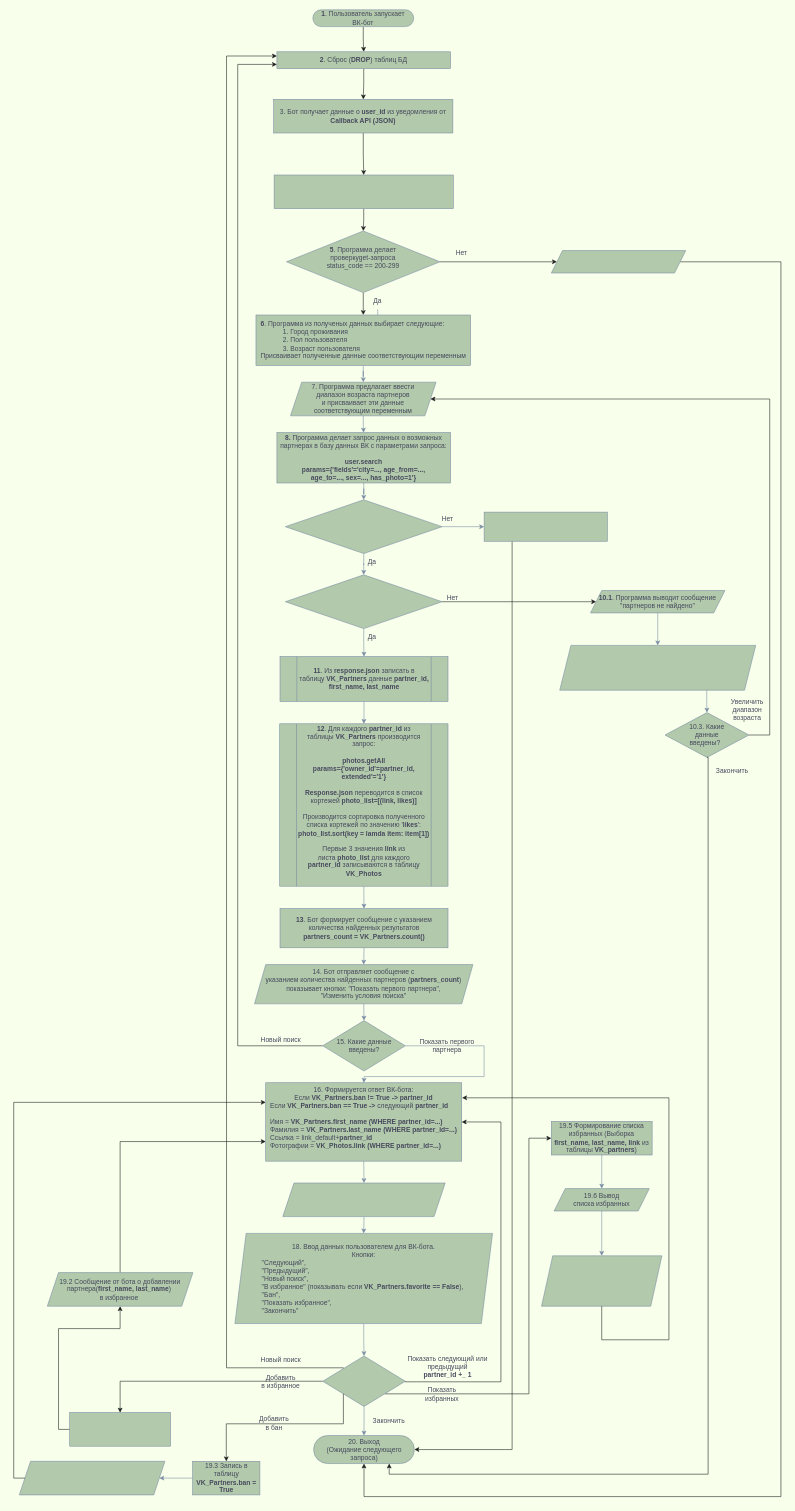
Image size: 795x1511. Some labels were removed from this diagram. Each missing label, with the centre of its shape:
10 . Программа проверяет количество партнеров > 0: the point at 363,601
10.2. Выводятся две кнопки: "Увеличить диапазон возраста партнеров", "Закончить": the point at 657,667
15 . Программа выводит сообщение об ошибке: the point at 618,261
17. BK-бот отправляет результат: the point at 363,1199
19. Какие данные введены?: the point at 363,1380
19.1 Запись в таблицу VK_Partners.favorite = True: the point at 120,1429
19.4 Сообщение от бота о добавлении партнера( first_name, last_name ) в бан: the point at 92,1478
19.7 Ввод пользователя. Кнопка: "Выйти из списка избранных": the point at 601,1280
4 . Программа делает get-запрос данных пользователя: the point at 363,191
9 . Программа делает проверку get-запроса status_code == 200-299: the point at 363,526
9.1. Программа выводит сообщение об ошибке: the point at 545,526
